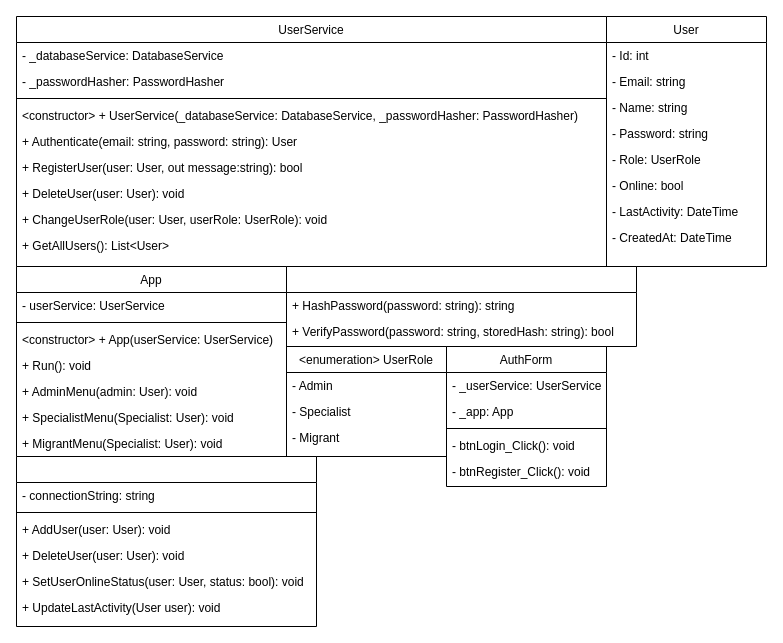
Some shapes in this 783 by 643 pixel diagram are drawn without their labels. Here are the shapes that lost their labels. From the top down, the box of each, then its label:
(286, 266, 636, 346): PasswordHasher
(16, 456, 316, 626): DatabaseService
